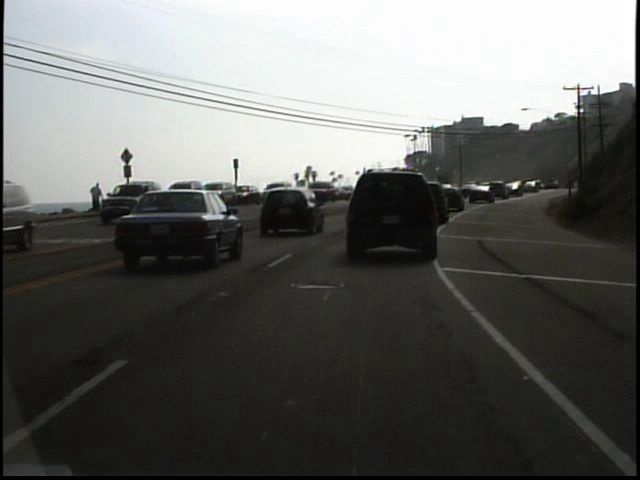person: (88, 178, 106, 218)
